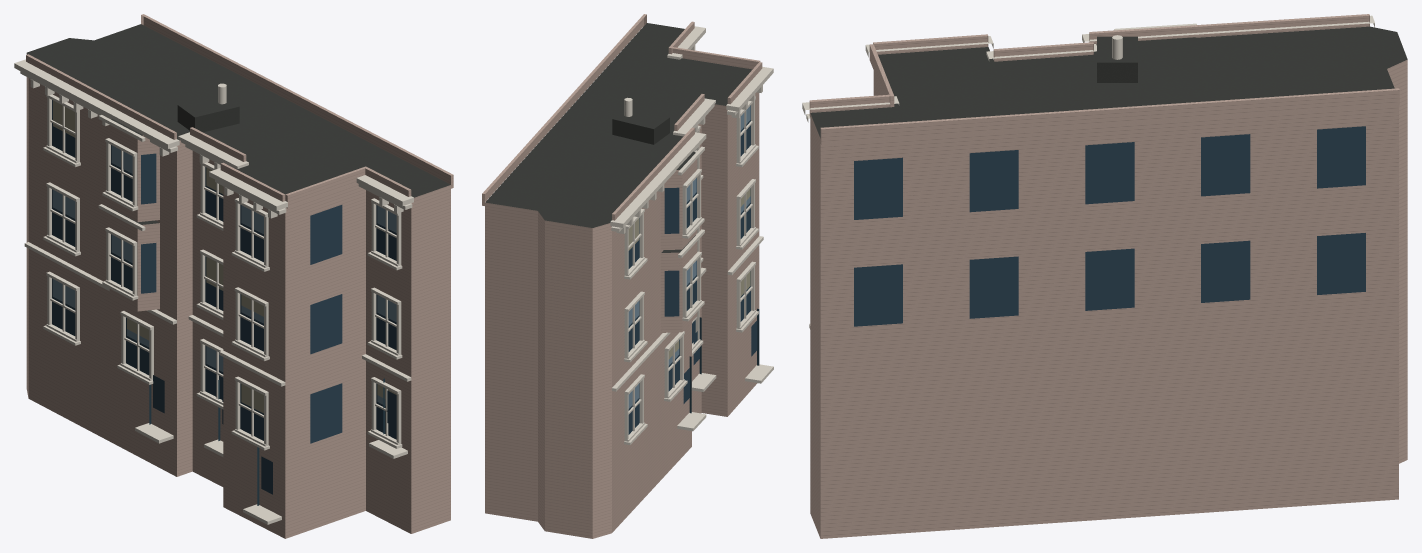
3 renders of one model, left to right at view 1: azimuth 30°, elevation 25°; view 2: azimuth 150°, elevation 25°; view 3: azimuth 270°, elevation 25°, orthographic. The views are drawn at different scales.
Parts seen in each view (by area): view 1: Footprint 0 / surface 2, Cornices and window frames, Footprint 0 / surface 1, Inset glazing, Facade bay volumes, Sky reflection panels, Interior blind variation, Inferred rooftop service enclosure / surface 5, Inferred rooftop service enclosure / surface 3, Storefronts and doors; view 2: Footprint 0 / surface 2, Footprint 0 / surface 1, Cornices and window frames, Facade bay volumes, Inset glazing, Sky reflection panels, Inferred rooftop service enclosure / surface 6, Inferred rooftop service enclosure / surface 3, Interior blind variation, Storefronts and doors; view 3: Footprint 0 / surface 2, Footprint 0 / surface 1, Inset glazing, Facade bay volumes, Cornices and window frames, Inferred rooftop service enclosure / surface 1, Inferred rooftop service enclosure / surface 3.
Part boxes in pixels (x1,y1,x2,y2): Footprint 0 / surface 2: (26,77,450,538); Cornices and window frames: (14,59,413,524); Footprint 0 / surface 1: (26,24,450,197); Inset glazing: (52,100,396,494); Facade bay volumes: (26,14,453,311); Sky reflection panels: (52,100,396,405); Interior blind variation: (53,100,396,413); Inferred rooftop service enclosure / surface 5: (195,106,239,132); Inferred rooftop service enclosure / surface 3: (178,95,239,117); Storefronts and doors: (149,378,384,505); Footprint 0 / surface 2: (485,92,759,538); Footprint 0 / surface 1: (485,23,752,227); Cornices and window frames: (610,26,773,444); Facade bay volumes: (482,14,762,332); Inset glazing: (628,105,757,434); Sky reflection panels: (628,105,750,408); Inferred rooftop service enclosure / surface 6: (612,119,653,144); Inferred rooftop service enclosure / surface 3: (613,108,669,128); Interior blind variation: (628,188,750,359); Storefronts and doors: (689,308,759,413); Footprint 0 / surface 2: (810,54,1407,538); Footprint 0 / surface 1: (810,26,1407,138); Inset glazing: (854,126,1365,326); Facade bay volumes: (809,14,1399,144); Cornices and window frames: (802,15,1374,329); Inferred rooftop service enclosure / surface 1: (1097,62,1137,82); Inferred rooftop service enclosure / surface 3: (1097,36,1137,62).
Size of the model in its own units: 8.39 by 14.18 by 17.66.
